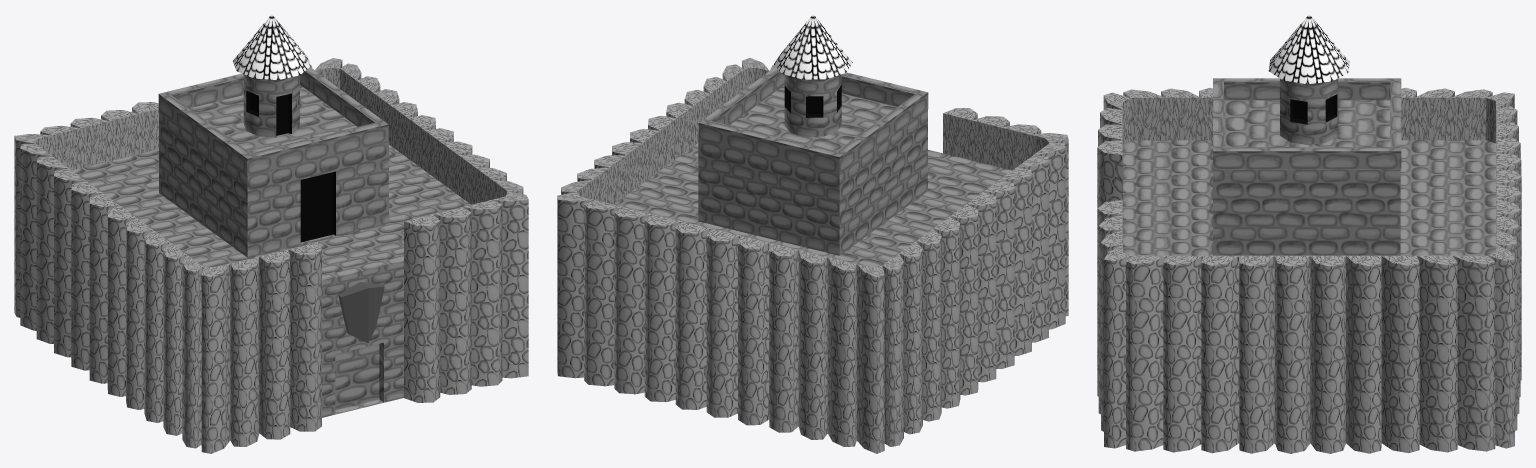
Rendered from gongon_barrack.fbx.
3 renders of one model, left to right at view 1: azimuth 30°, elevation 25°; view 2: azimuth 150°, elevation 25°; view 3: azimuth 270°, elevation 25°, orthographic. The views are drawn at different scales.
Visible parts, largest first — view 1: BarrackWall, BarrackBody, BarrackTop, Barrack2FWall, BrrackTower, BarrackSign; view 2: BarrackWall, BarrackTop, BarrackBody, Barrack2FWall, BrrackTower; view 3: BarrackWall, BarrackTop, BarrackBody, Barrack2FWall, BrrackTower.
Part boxes in pixels (bbox=[...]): BarrackWall: bbox=[14, 58, 528, 453]; BarrackBody: bbox=[72, 145, 470, 417]; BarrackTop: bbox=[159, 85, 388, 257]; Barrack2FWall: bbox=[158, 67, 388, 175]; BrrackTower: bbox=[233, 14, 310, 137]; BarrackSign: bbox=[338, 282, 384, 343]; BarrackWall: bbox=[557, 57, 1068, 453]; BarrackTop: bbox=[698, 85, 927, 255]; BarrackBody: bbox=[614, 143, 1011, 267]; Barrack2FWall: bbox=[698, 66, 928, 174]; BrrackTower: bbox=[774, 14, 852, 136]; BarrackWall: bbox=[1097, 87, 1521, 453]; BarrackTop: bbox=[1213, 100, 1400, 255]; BarrackBody: bbox=[1123, 140, 1495, 255]; Barrack2FWall: bbox=[1213, 78, 1401, 169]; BrrackTower: bbox=[1268, 14, 1349, 144].
Bounding box in the file's own units: 19.12 × 17.39 × 19.11.
